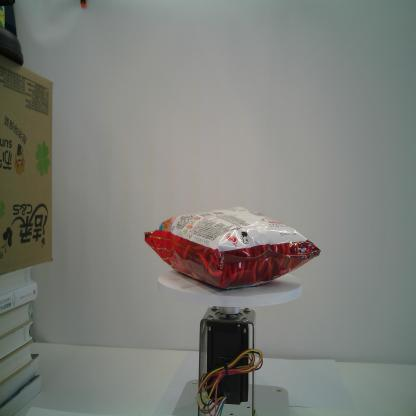Puffed Food: (144, 206, 321, 291)
